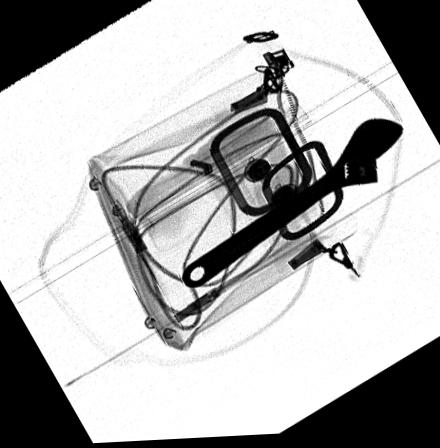Wrench: (180, 121, 402, 289)
